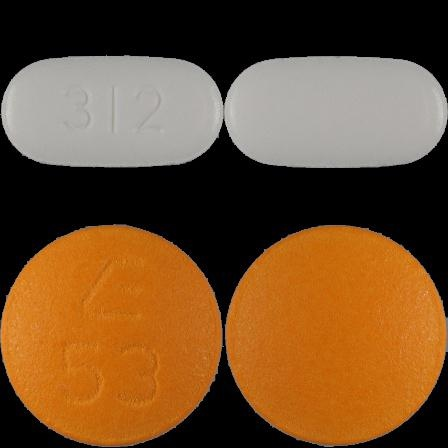21695-325: (0, 0, 224, 224)
